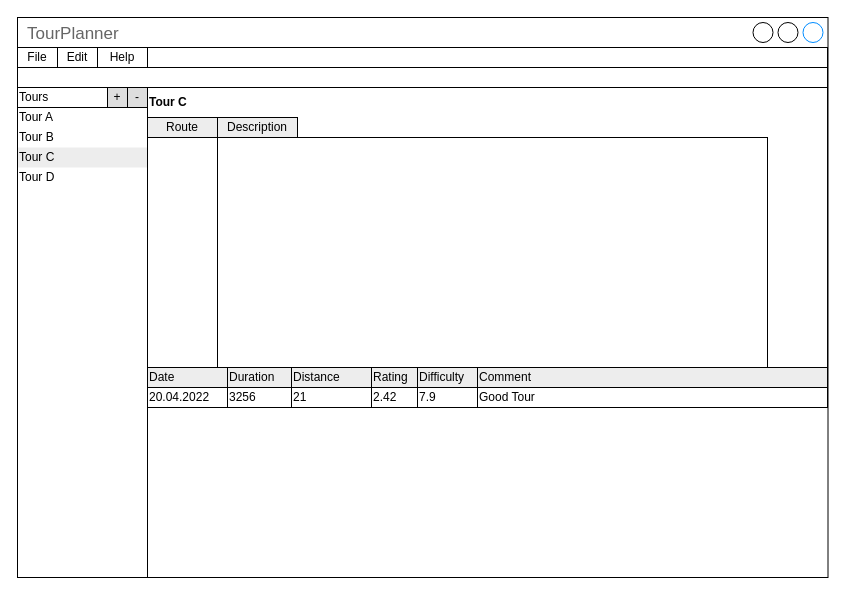
Some shapes in this 846 by 595 pixel diagram are drawn without their labels. The centre of each missing label's shape, as x and y in pixels:
IMAGE: the point at 492,252
Search: the point at 422,77
